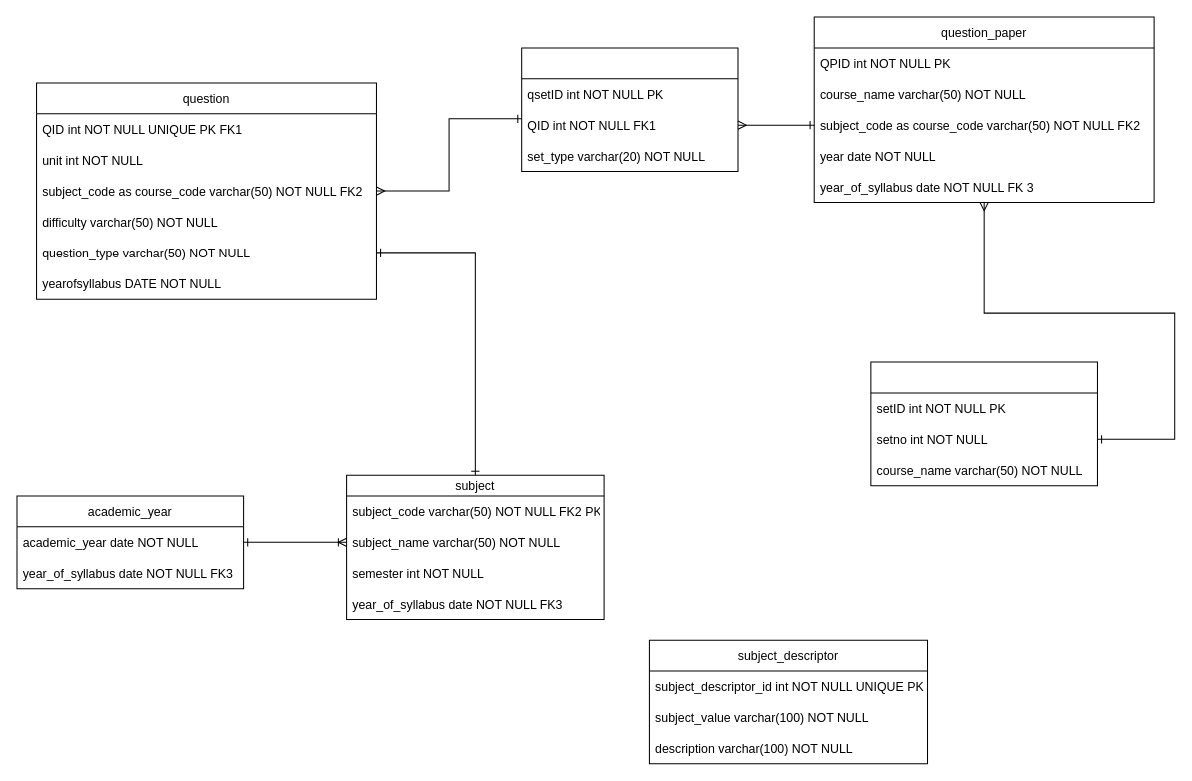
The diagram is 1192 pixels wide and 781 high, and some of its shapes have lost their labels. Here are the shapes that lost their labels. From the top down, the box of each, then its label:
(521, 47, 738, 171): question_Set
(870, 361, 1097, 486): question_paper_set
